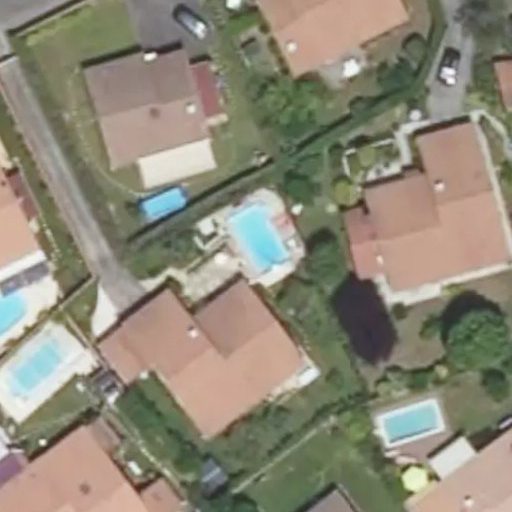pool: (227, 224, 284, 260)
